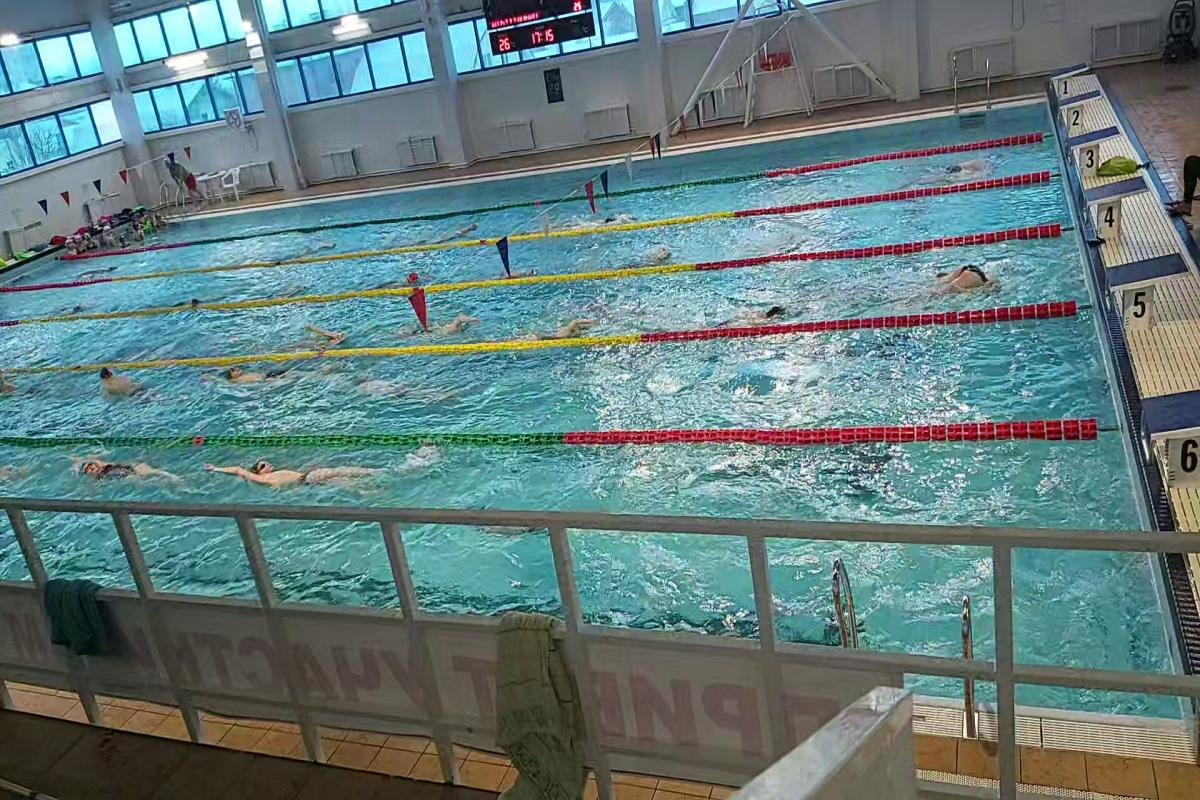swimmer: (190, 445, 398, 490), (65, 446, 184, 493), (920, 255, 1006, 305), (207, 360, 318, 395), (392, 308, 484, 342), (84, 364, 160, 403), (711, 296, 798, 327), (520, 306, 600, 336), (293, 315, 356, 352)
